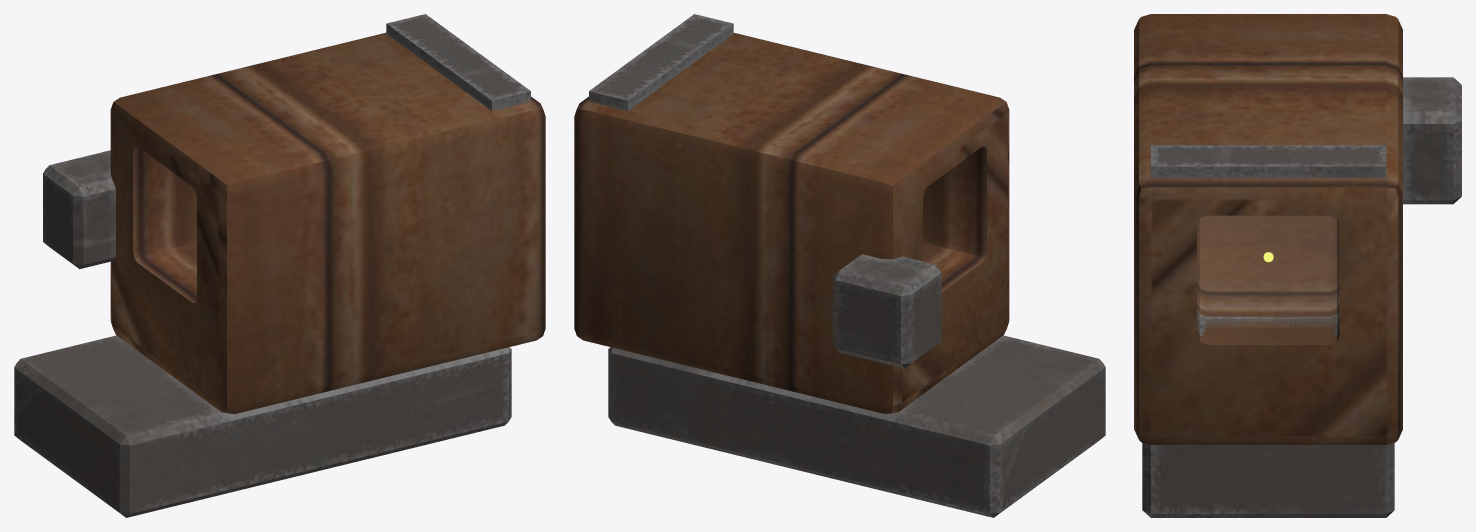
Rendered from lamplight_reflex.glb.
3 renders of one model, left to right at view 1: azimuth 30°, elevation 25°; view 2: azimuth 150°, elevation 25°; view 3: azimuth 270°, elevation 25°, orthographic. The views are drawn at different scales.
Parts seen in each view (by area): view 1: lamplight_reflex; view 2: lamplight_reflex; view 3: lamplight_reflex.
Boxes of the visible parts, left/top/right/bottom form: lamplight_reflex: left=14, top=14, right=545, bottom=517; lamplight_reflex: left=574, top=14, right=1105, bottom=517; lamplight_reflex: left=1134, top=14, right=1461, bottom=517.
Bounding box in the file's own units: 0.065 × 0.048 × 0.039.
Materials: 3 (1 with a texture image).
